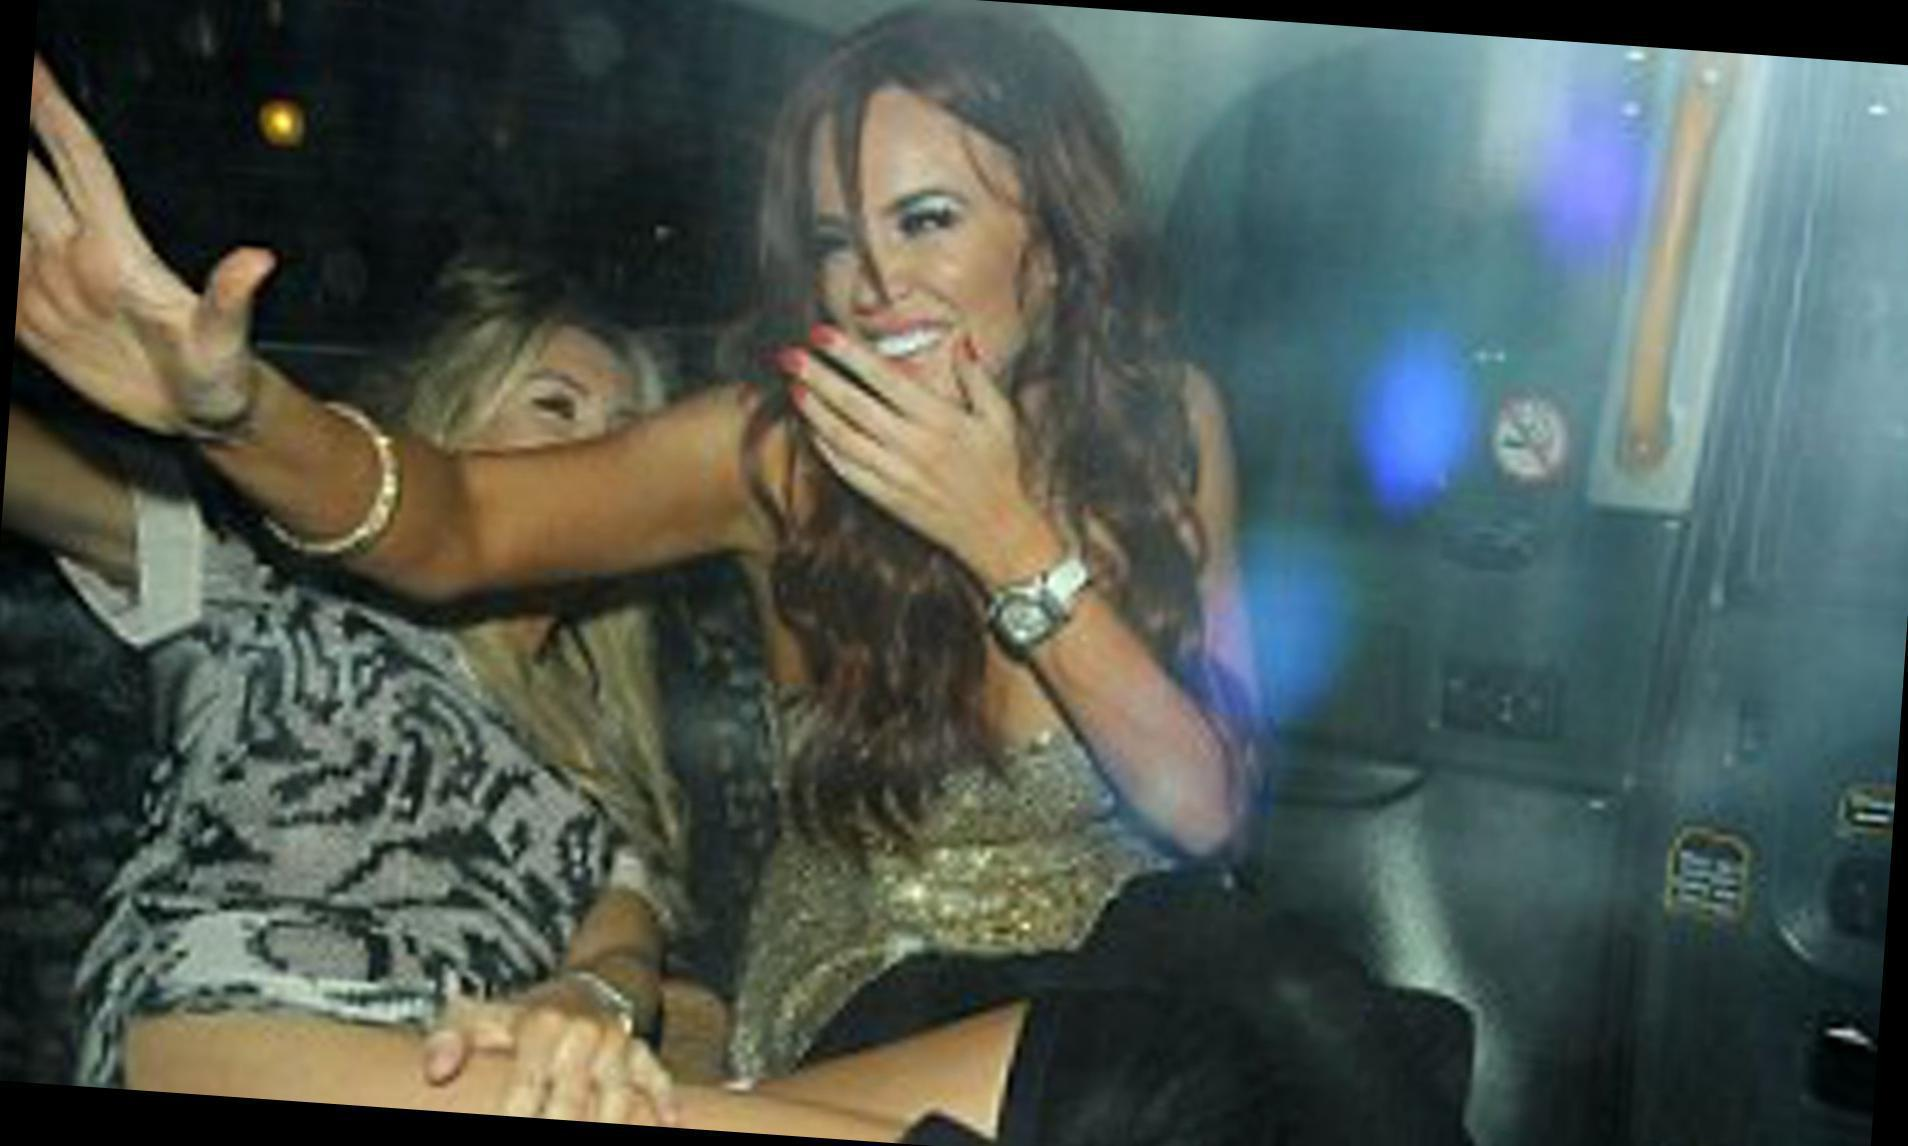Drunk: (799, 110, 1026, 388)
